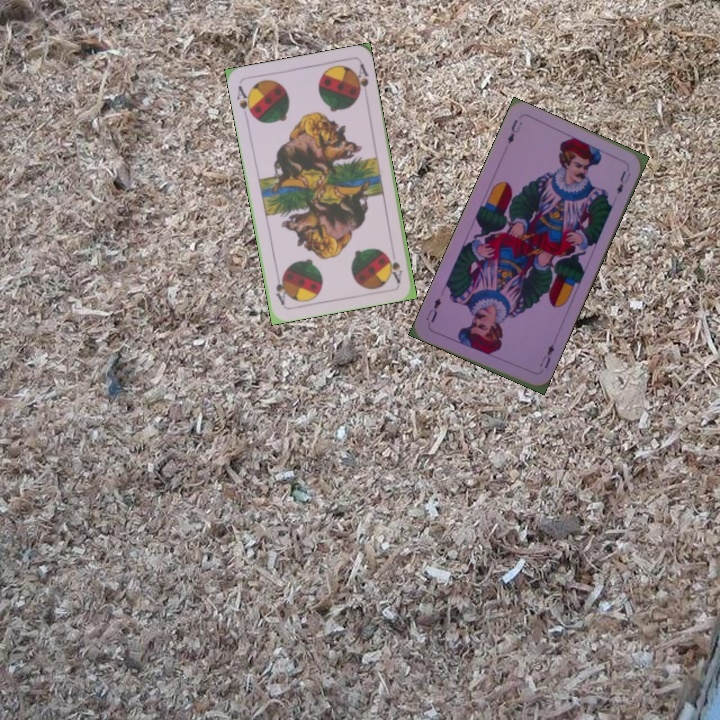EU: (535, 340, 557, 371), (503, 115, 525, 146)
SA: (233, 81, 256, 120), (385, 252, 405, 285)
